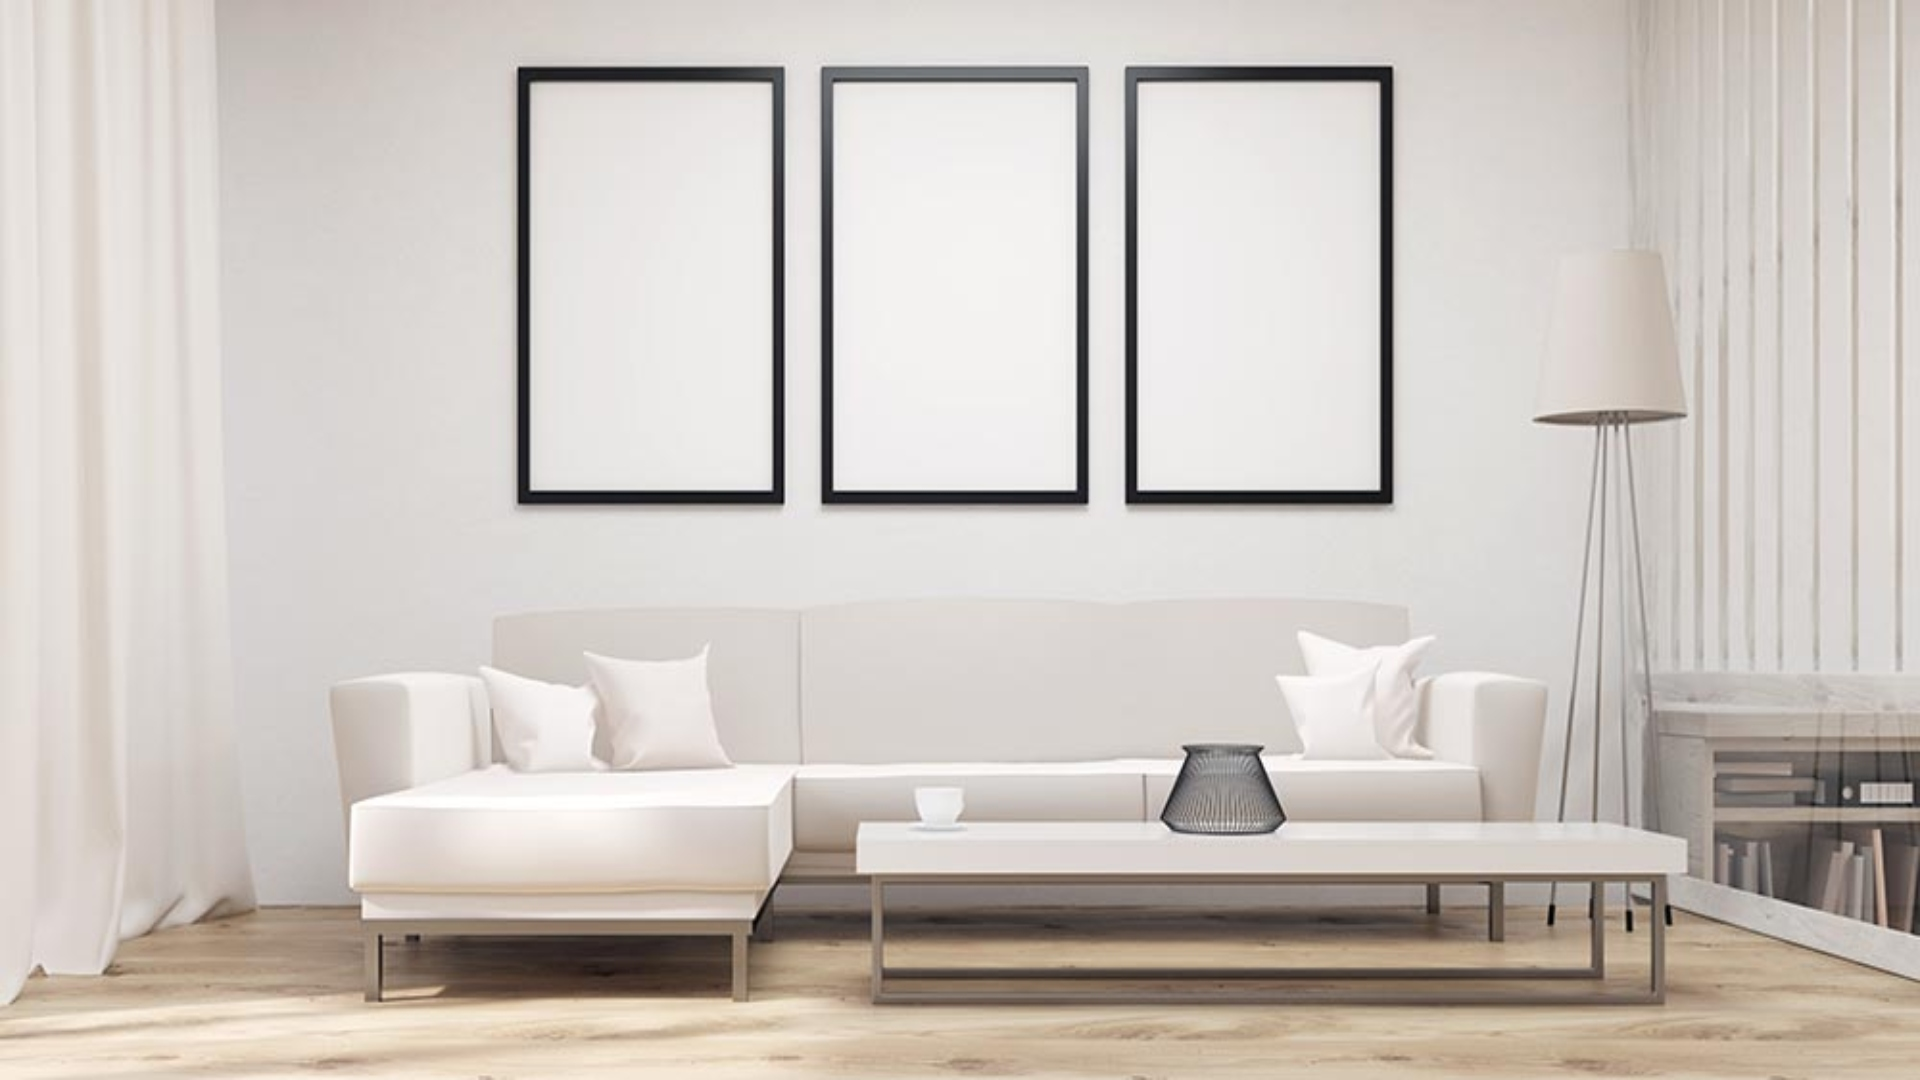floor lamp: (1528, 239, 1693, 936)
sofa: (319, 597, 1553, 1010)
table: (847, 804, 1698, 1025)
wall art: (1116, 58, 1398, 512), (816, 58, 1092, 510), (514, 63, 790, 506)
